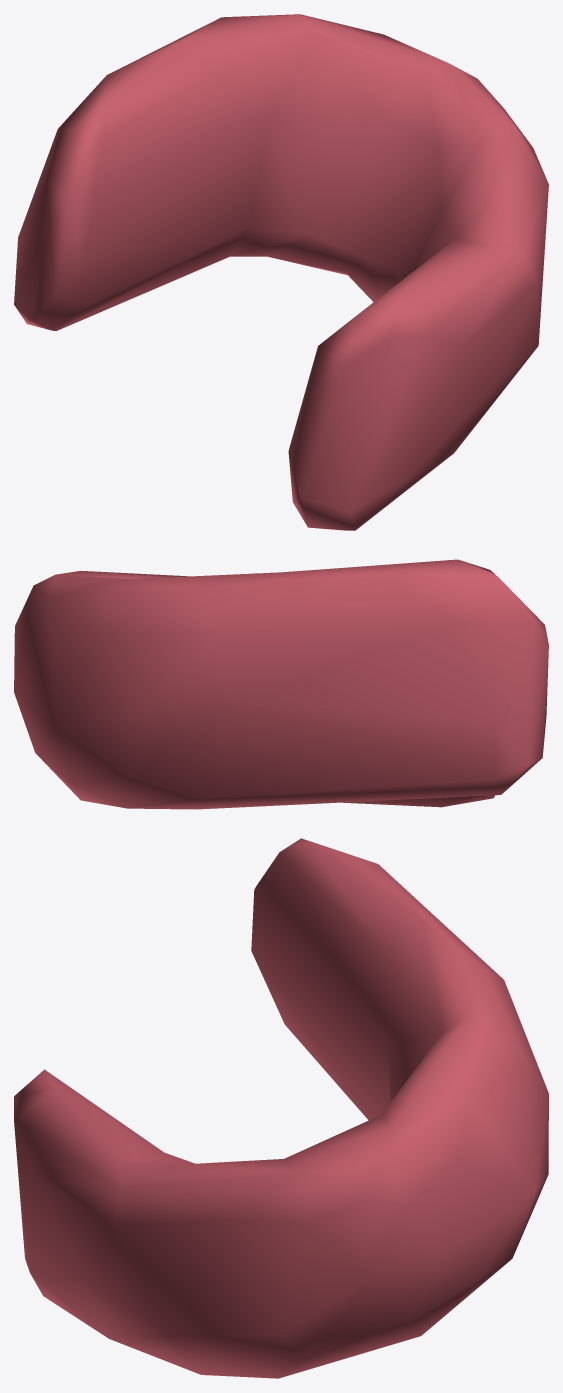
3 views of the same model, one above another, from view 1: azimuth 30°, elevation 25°; view 2: azimuth 150°, elevation 25°; view 3: azimuth 270°, elevation 25° (orthographic). The views are drawn at different scales.
Visible parts, largest first — view 1: 左侧上斜肌滑车; view 2: 左侧上斜肌滑车; view 3: 左侧上斜肌滑车.
Part boxes in pixels (left/top/right/bottom): 左侧上斜肌滑车: left=14, top=14, right=548, bottom=530; 左侧上斜肌滑车: left=14, top=559, right=548, bottom=809; 左侧上斜肌滑车: left=14, top=838, right=548, bottom=1378.
Bounding box in the file's own units: 0.00622 × 0.00433 × 0.00532.
